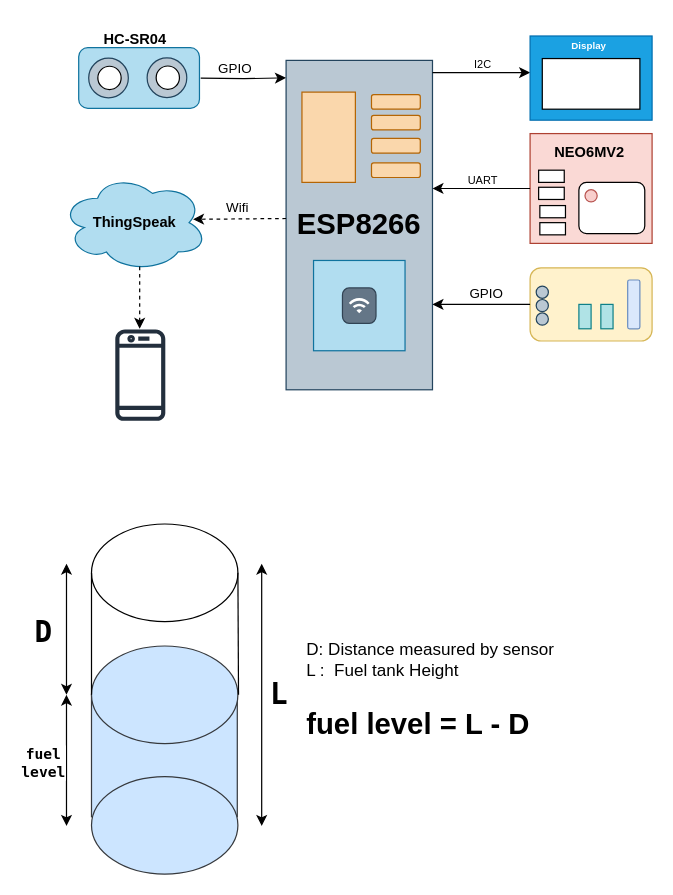
Image size: 673x895. Some labels were removed from this diagram. The centre of each missing label's shape, as x and y in pixels:
Fuel Level: 100%: the point at 590,83
SW-420: the point at 590,304
